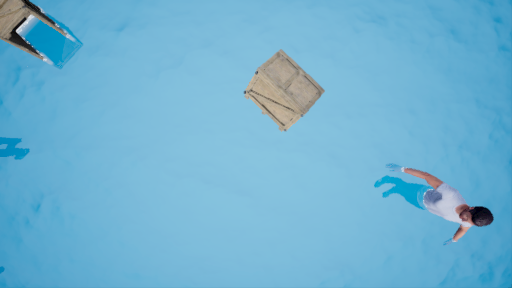person: (376, 162, 488, 242)
